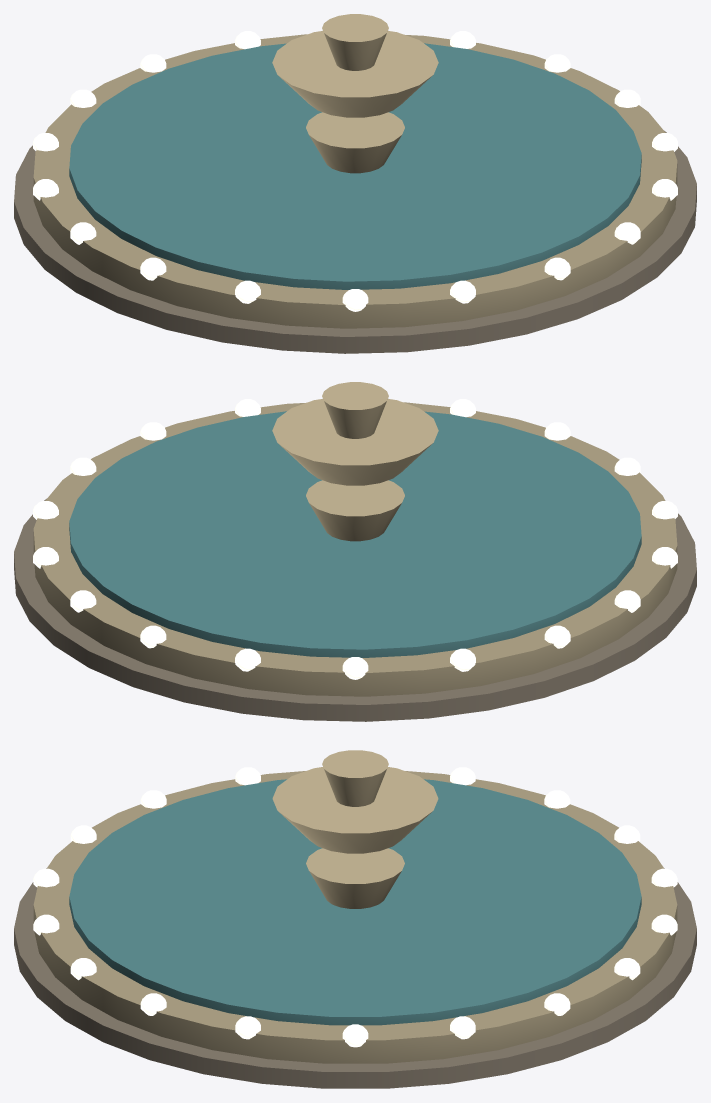
File: luxury_landmark.glb
The picture shows the model from 3 angles, top to bottom: view 1: azimuth 30°, elevation 25°; view 2: azimuth 150°, elevation 25°; view 3: azimuth 270°, elevation 25°; orthographic projection.
Visible parts, largest first — view 1: LuxuryLandmark; view 2: LuxuryLandmark; view 3: LuxuryLandmark.
Part boxes in pixels (x1,y1,x2,y2): LuxuryLandmark: [14, 14, 696, 353]; LuxuryLandmark: [14, 382, 696, 721]; LuxuryLandmark: [14, 750, 696, 1088].
Size of the model in its own units: 5.89 by 1.73 by 5.92.
